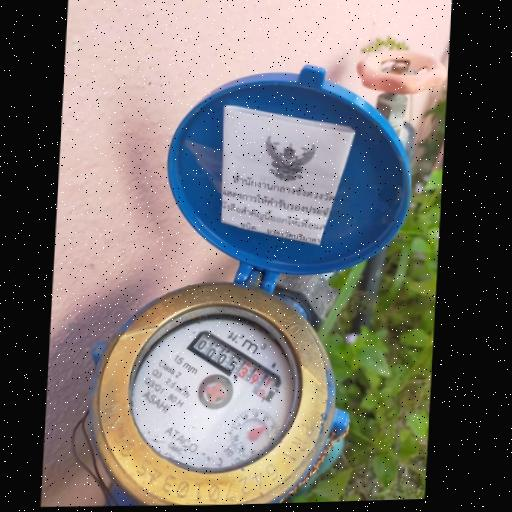0: (193, 333, 216, 355), (204, 340, 226, 362), (215, 346, 236, 369)
1: (252, 372, 278, 401)
3: (236, 360, 256, 381)
5: (225, 354, 246, 375)
9: (245, 366, 267, 389)
border_water_meter_number: (181, 324, 287, 406)
